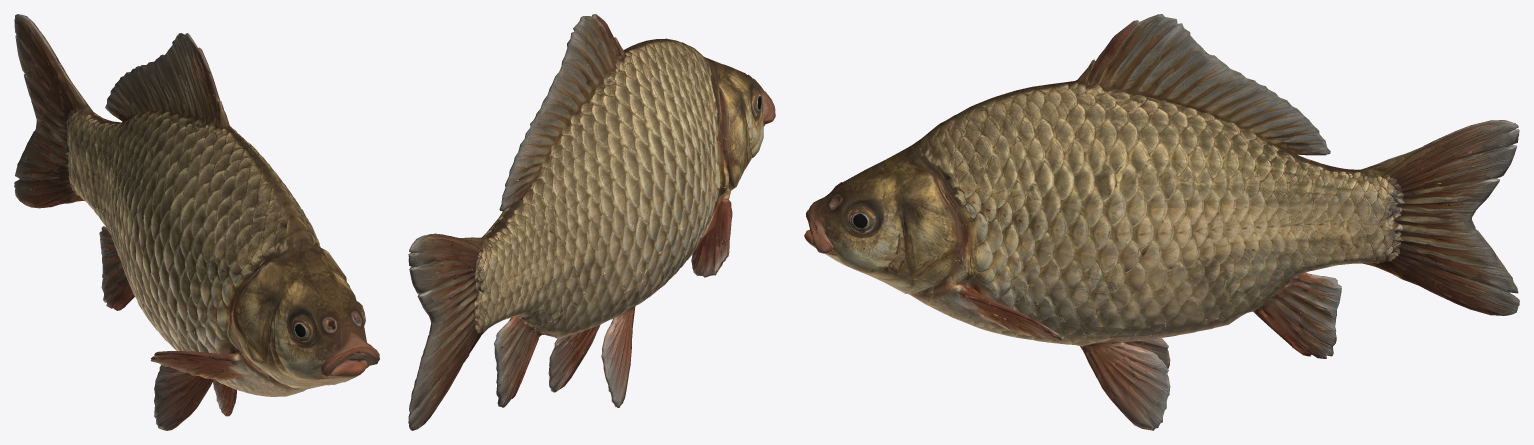
The model's file is karas.glb.
3 renders of one model, left to right at view 1: azimuth 30°, elevation 25°; view 2: azimuth 150°, elevation 25°; view 3: azimuth 270°, elevation 25°, orthographic. The views are drawn at different scales.
Parts seen in each view (by area): view 1: Mesh_0; view 2: Mesh_0; view 3: Mesh_0.
Boxes of the visible parts, x1,y1,x2,y2 form: Mesh_0: (14,14,379,430); Mesh_0: (408,14,775,430); Mesh_0: (804,14,1519,430).
Bounding box in the file's own units: 0.5679 × 1.17 × 1.9.
Materials: 1 (1 with a texture image).
